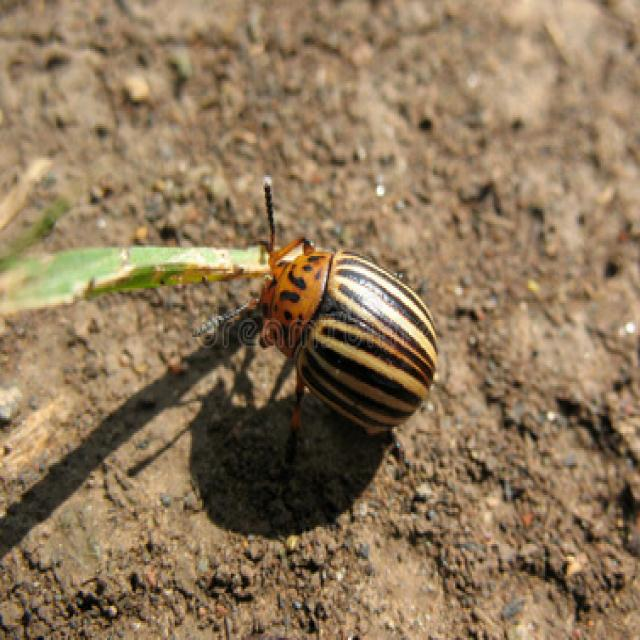ShuCaiHuaBanChong-Grown-: (224, 228, 446, 437)
